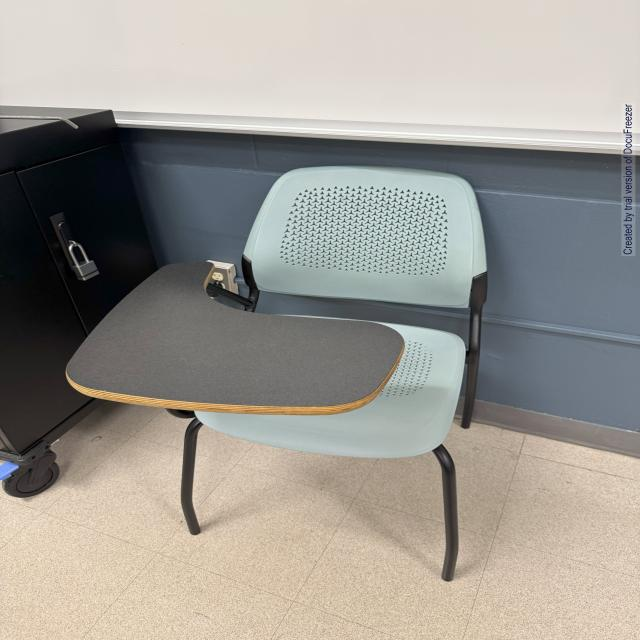chair: (65, 149, 501, 587)
